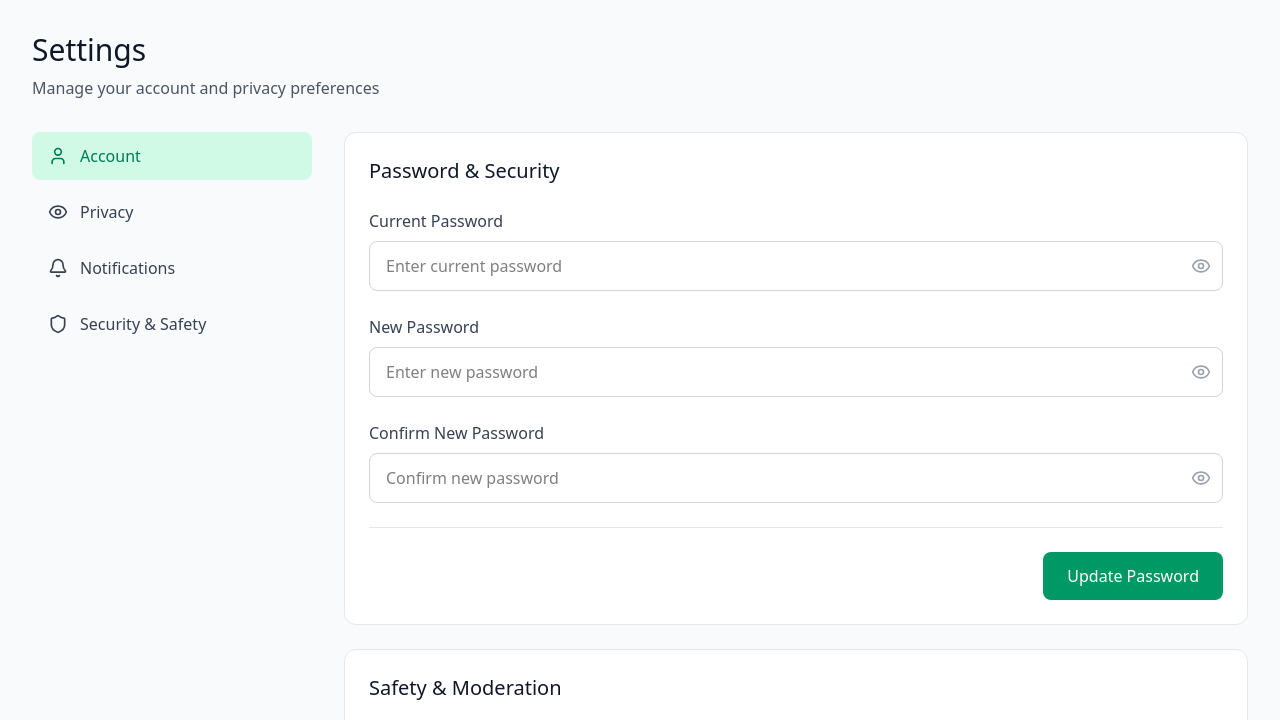
SettingsPage - Security Tab (MFA) › renders MFA section with "Enable MFA" button when MFA is disabled
The image size is (1280, 720).
What coordinates should you click on to do the following:
click the button "Security & Safety"
I would click on:
 (172, 324)
Its box is [32,300,312,348].
(page scrolled)
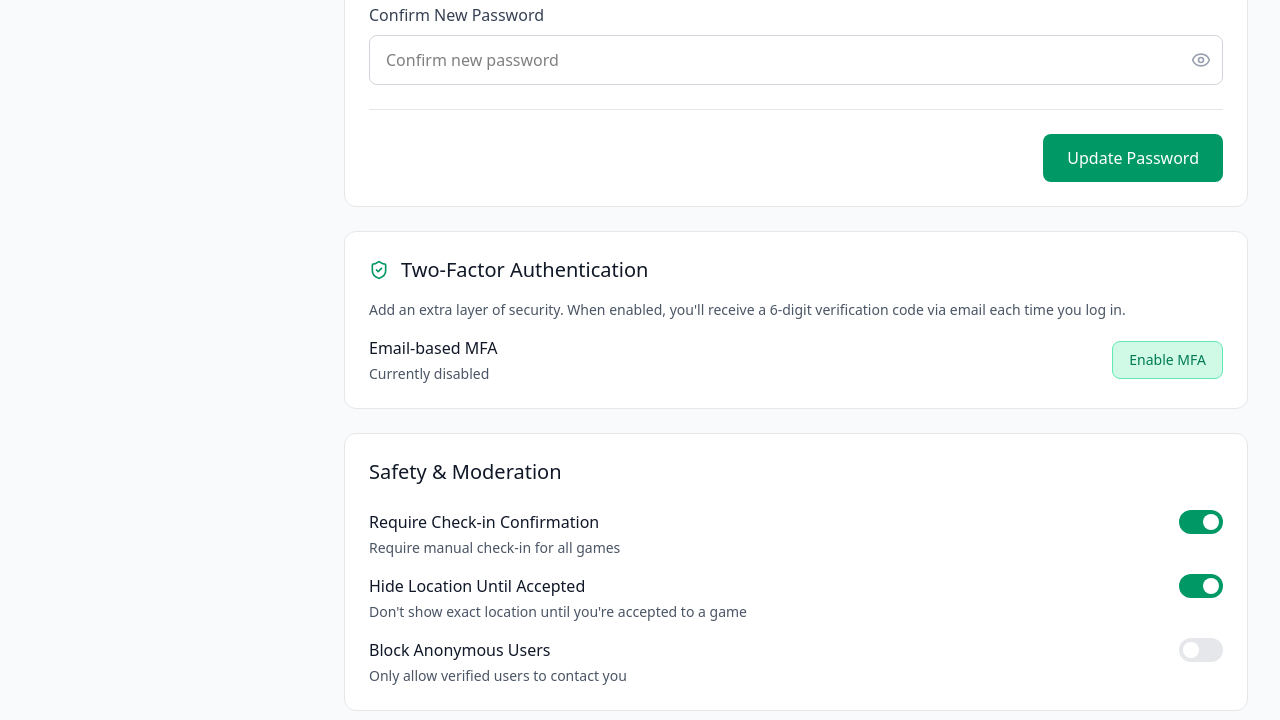
Check: the text "Currently disabled" is shown, box [369,364,498,384]
Check: the button "Enable MFA" is shown, box [1112,341,1223,379]
